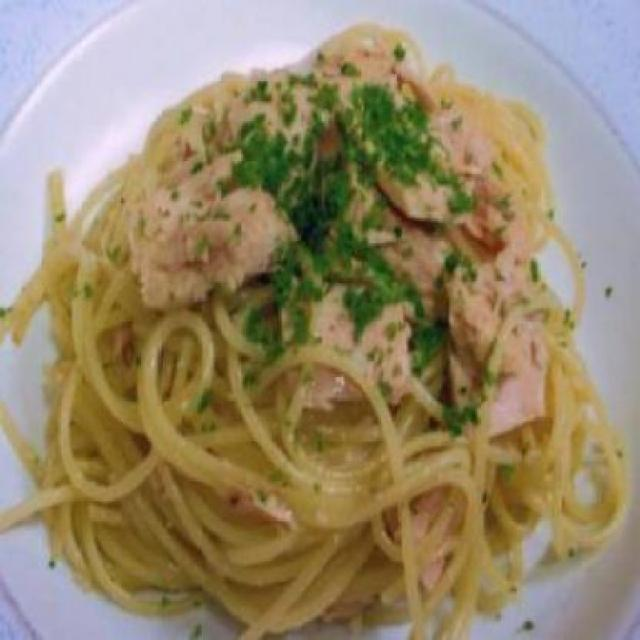Oil pasta: (34, 33, 594, 638)
